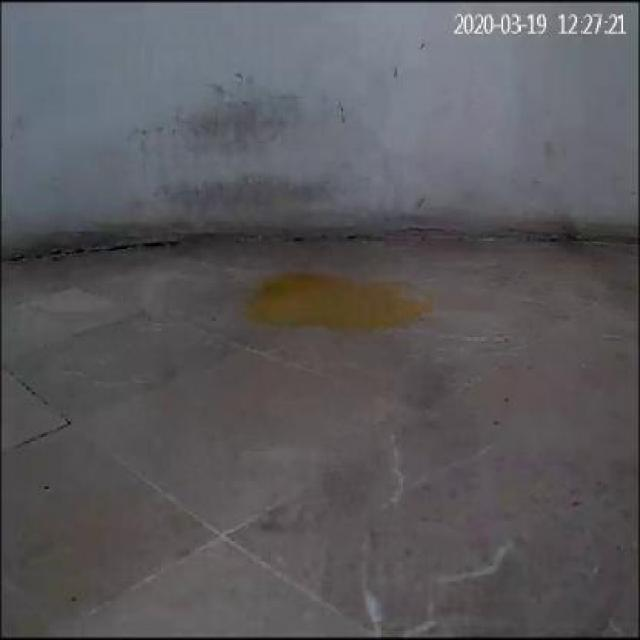spill: (233, 264, 422, 330)
